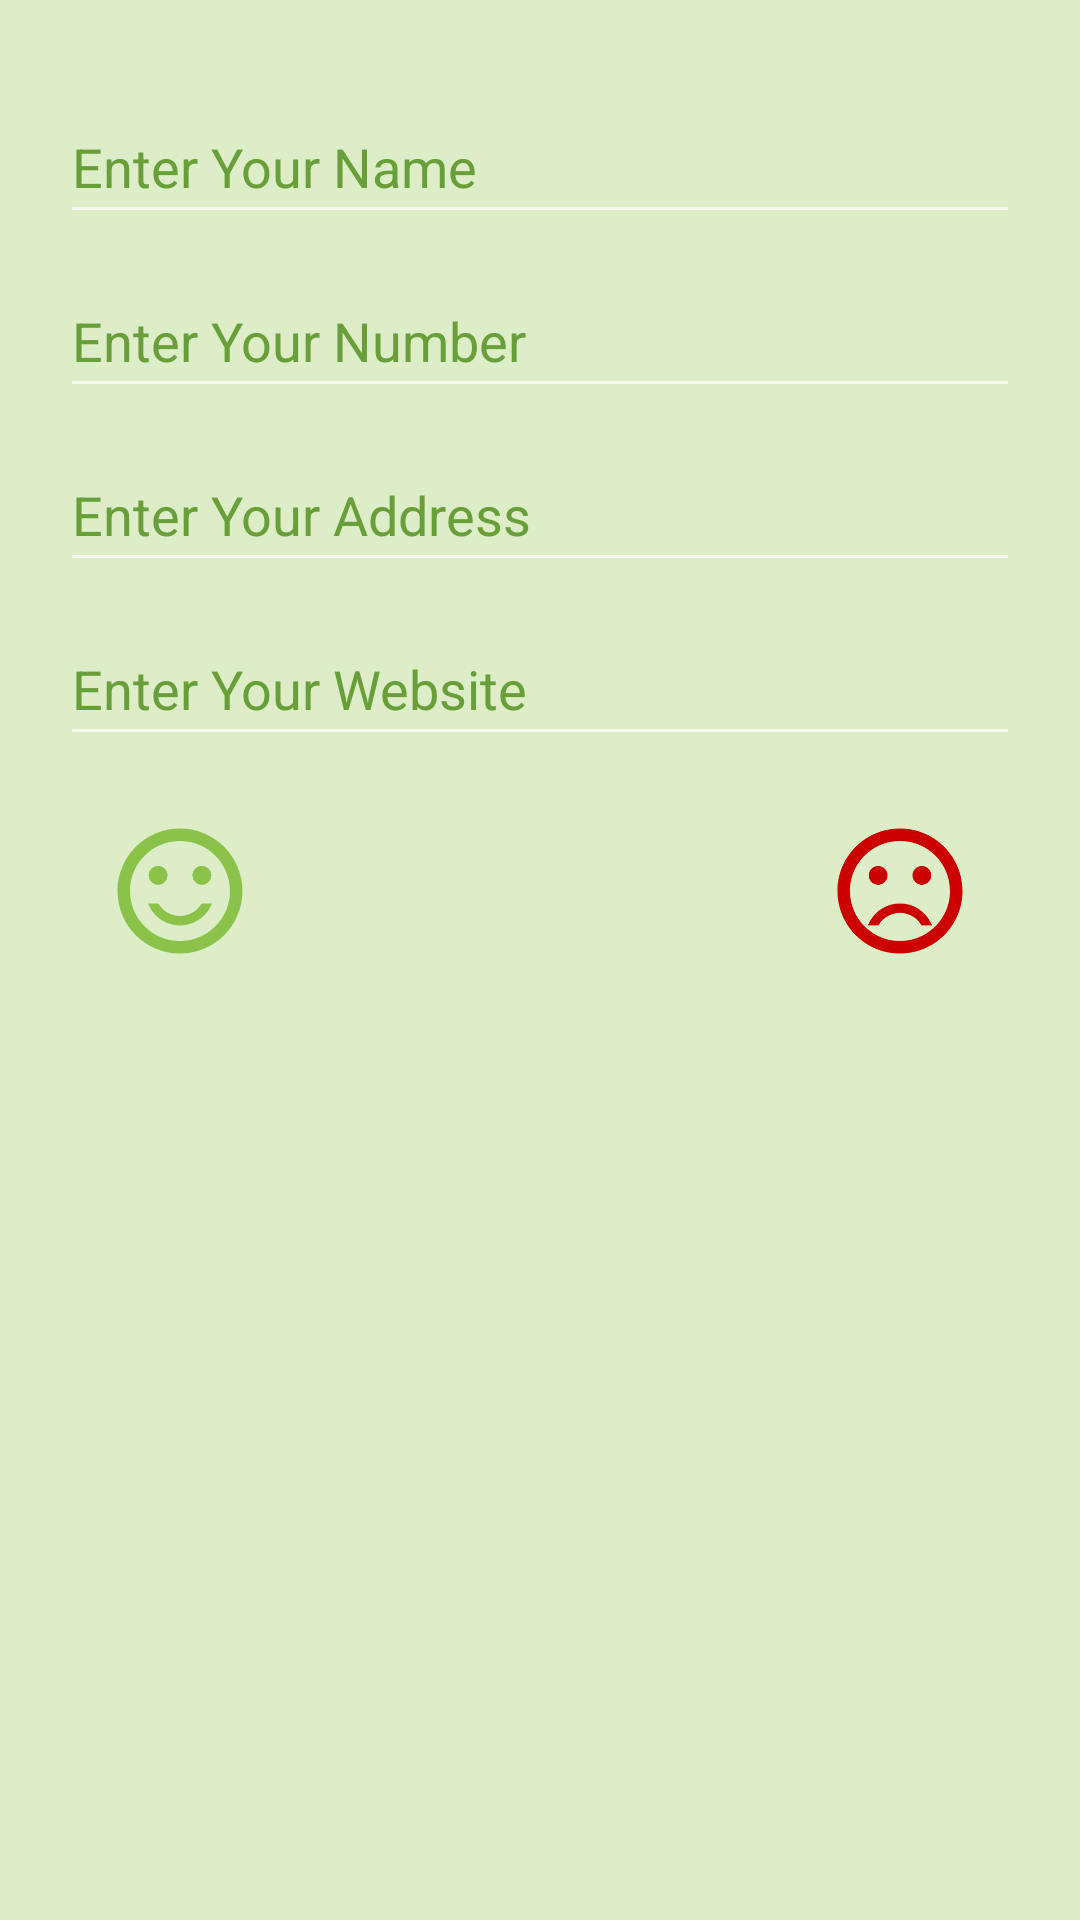

Screen size 1080px x 1920px. Icon name, then its center in pixels as [x,y]:
happy: [180,891]
sad: [900,891]
